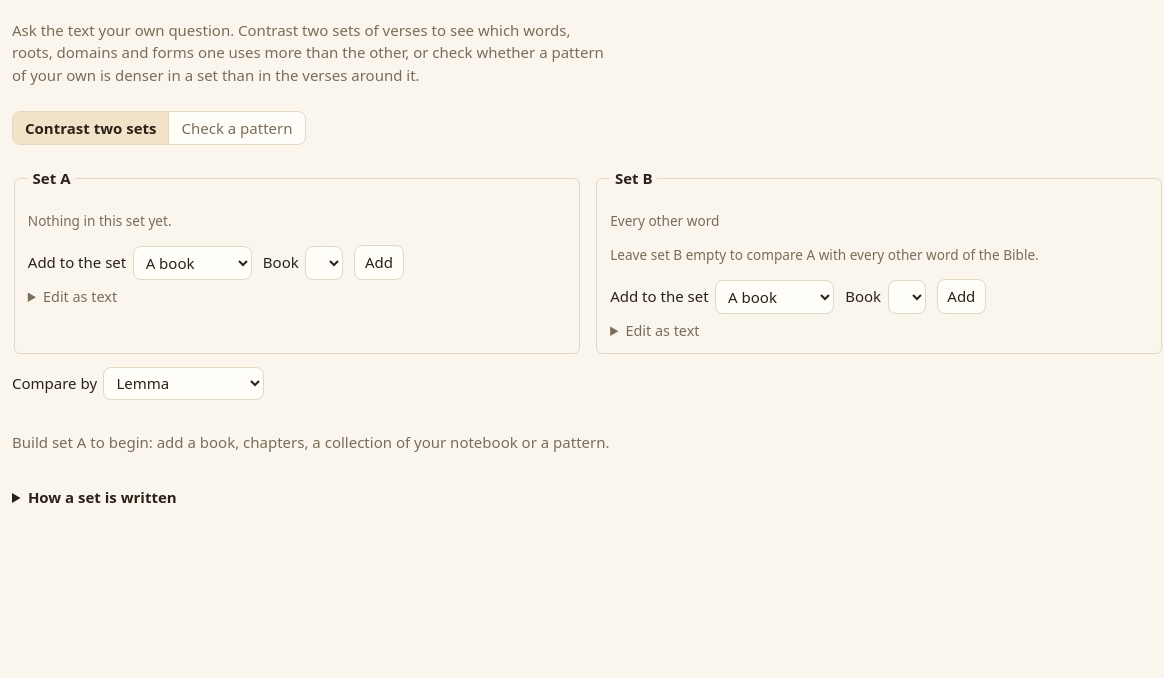
Test: WorkbenchPage: contrast › refuses chapters that run backwards and writes ranges
Select "Chapters" in the dropdown labelled "Add to the set" below "Nothing in this set yet.": [192, 263] box [133, 246, 252, 280]
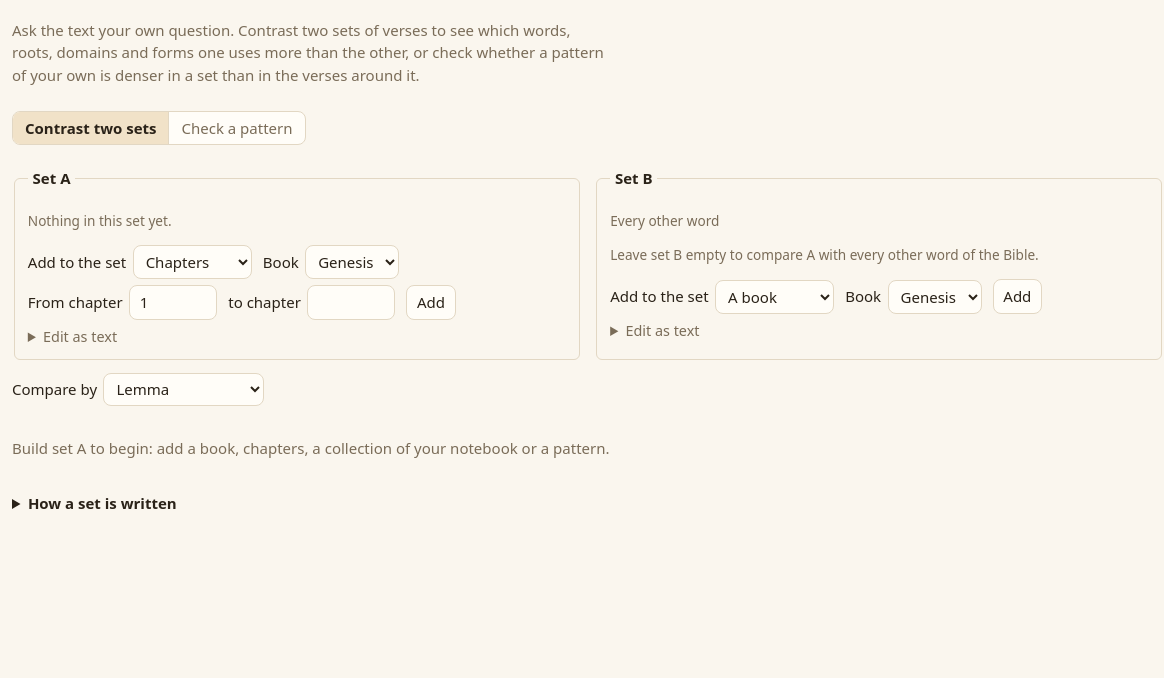
Select "Psalms" in the dropdown labelled "Book" below "Nothing in this set yet.": [352, 262] box [305, 245, 399, 279]
Replace the text in the number field labelled "From chapter" with "83": [173, 302] box [129, 285, 217, 320]
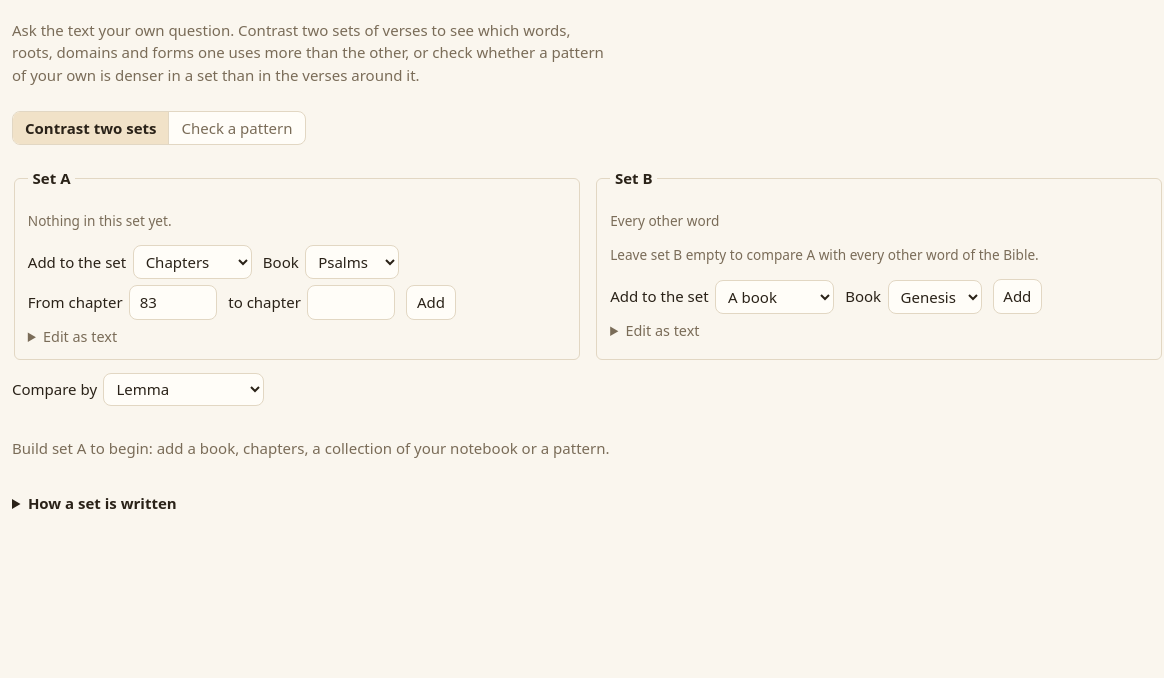
In the number field labelled "to chapter": [351, 302] box [307, 285, 395, 320], type "42"
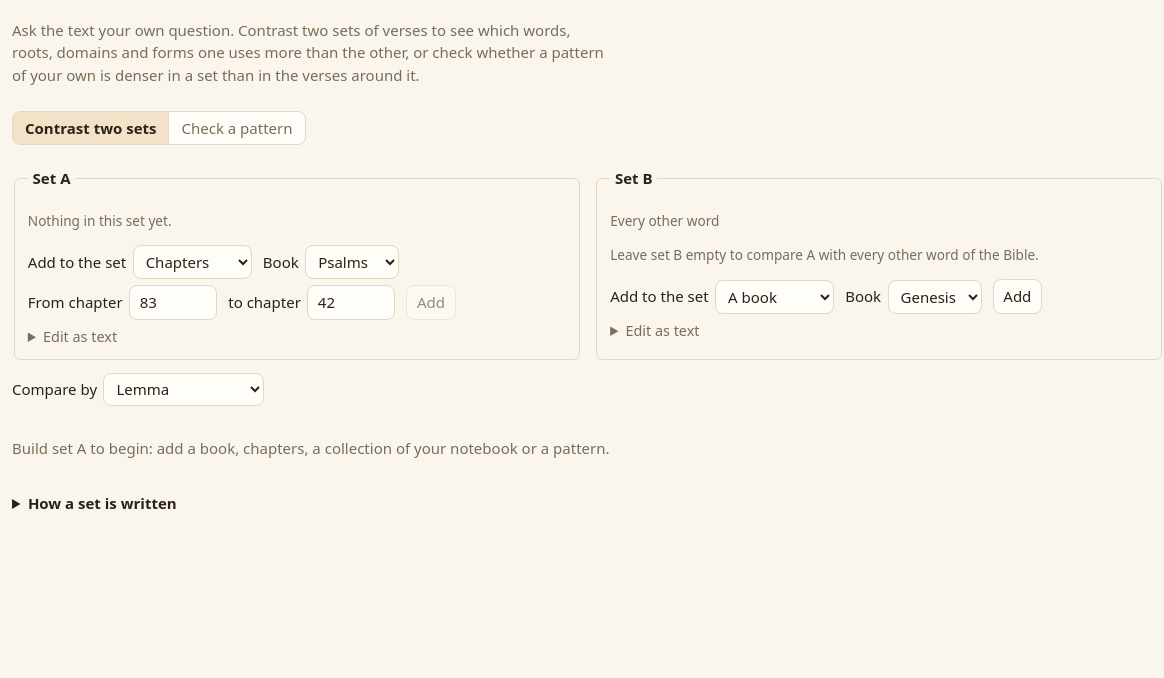
Check: the button "Add" next to "to chapter" is disabled, box [406, 285, 456, 320]
Replace the text in the number field labelled "From chapter" with "42": [173, 302] box [129, 285, 217, 320]
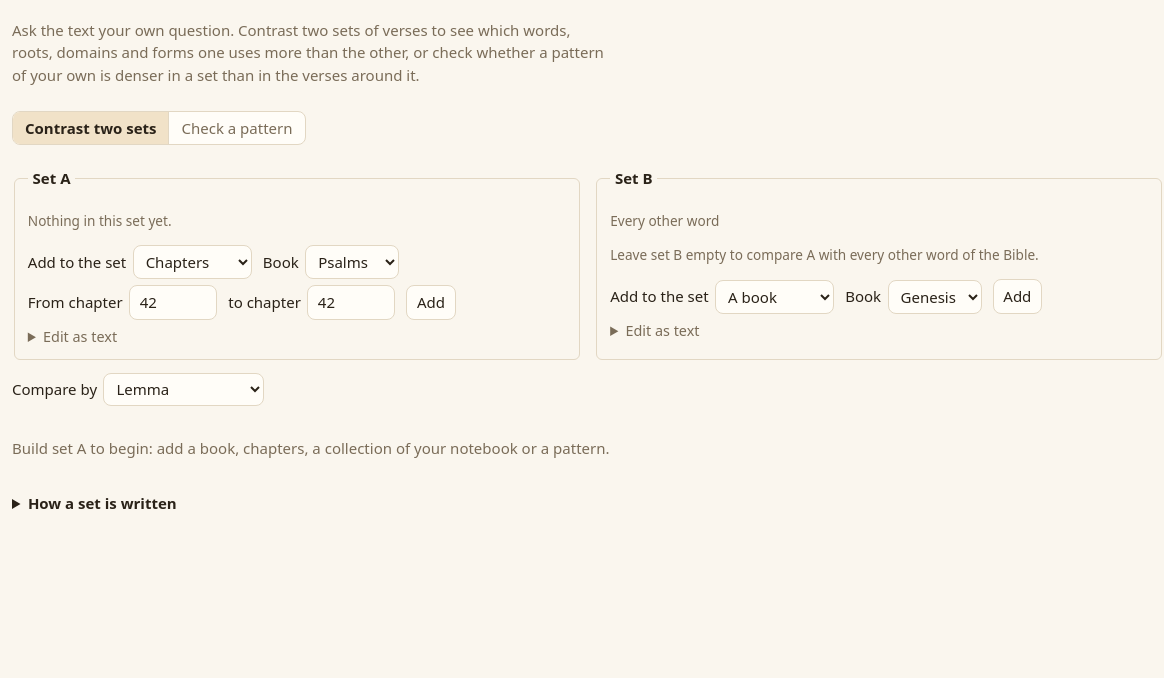
Replace the text in the number field labelled "to chapter" with "83": [351, 302] box [307, 285, 395, 320]
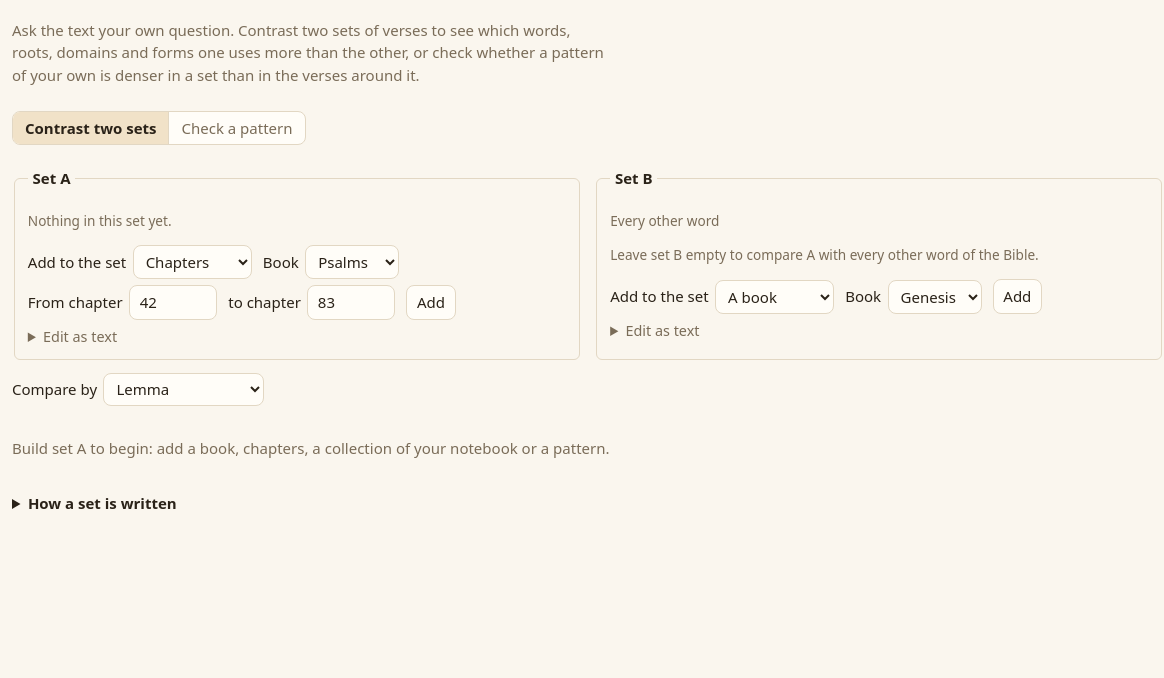
Click the button "Add" next to "to chapter": [431, 302] box [406, 285, 456, 320]
(page scrolled)
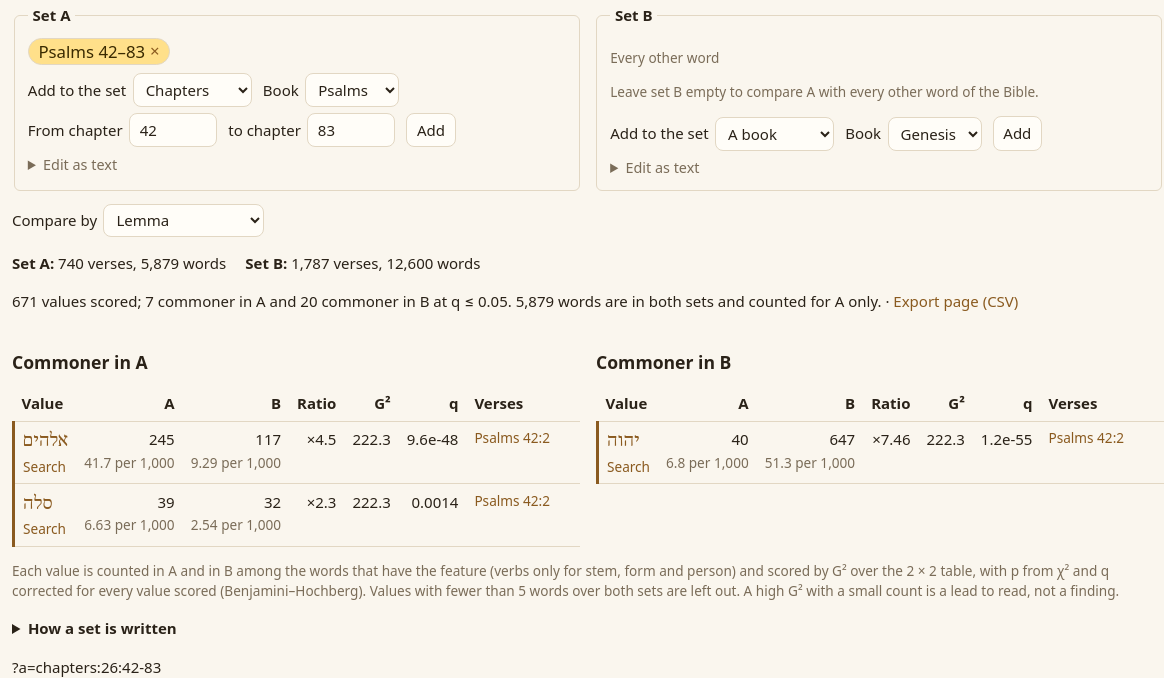
Check: the text with test id "loc" shows "a=chapters:26:42-83", box [12, 657, 161, 677]
